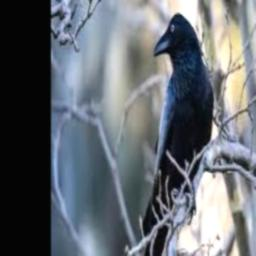Crow: (140, 12, 214, 256)
